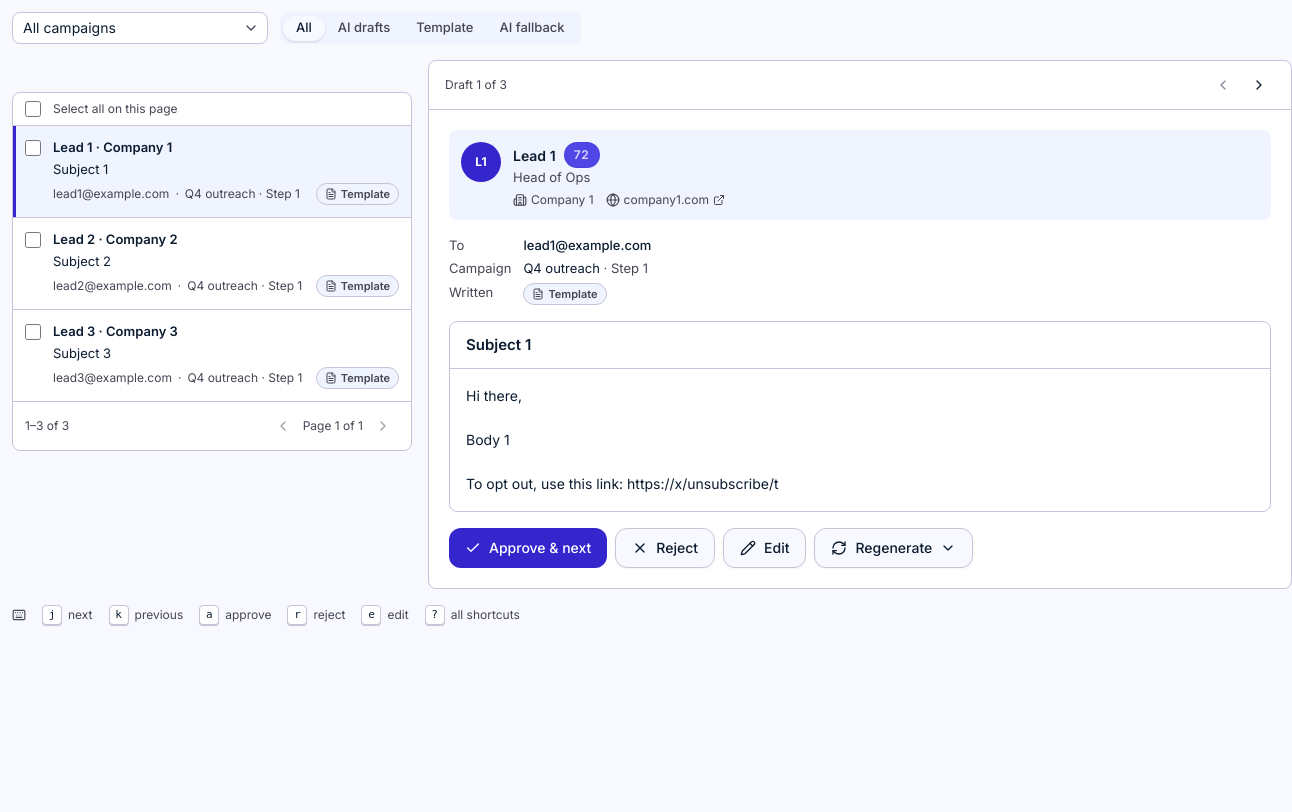
Test: Approval queue › approves the last draft with the button and falls back to the previous one
The width and height of the screenshot is (1292, 812).
Expected: the heading "Subject 1" is shown, [450,322,1270,369]
Type keys "jj"
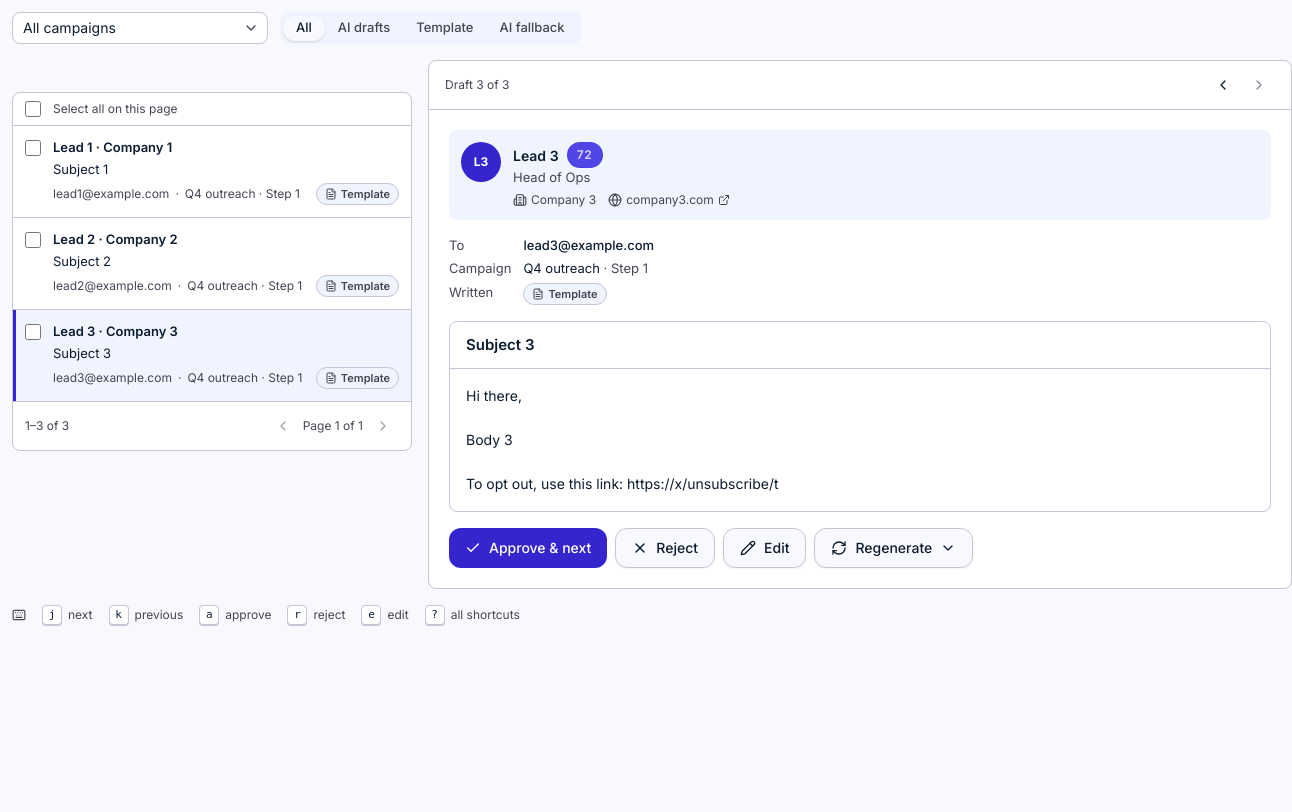
Click the button "Approve & next": (528, 548) [449,528,607,568]
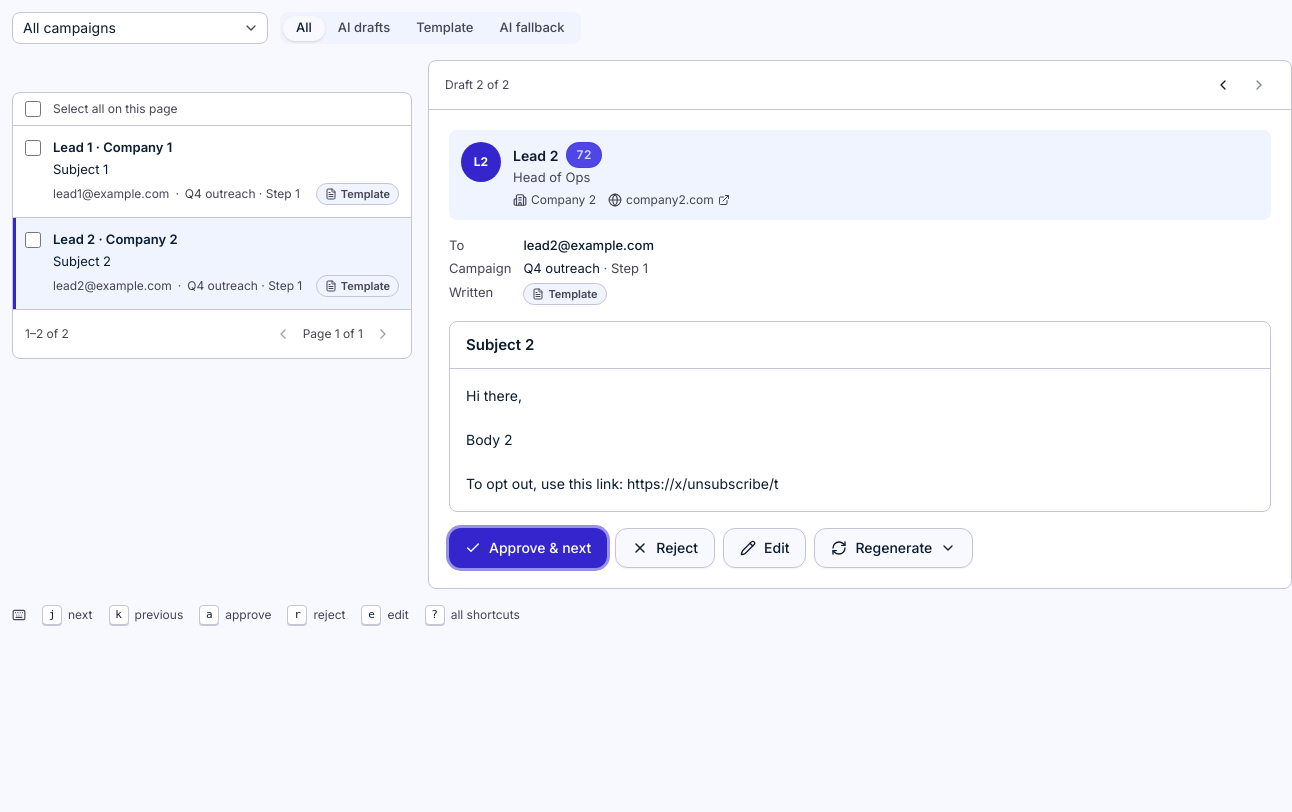
Expected: the heading "Subject 2" is shown, [450,322,1270,369]
